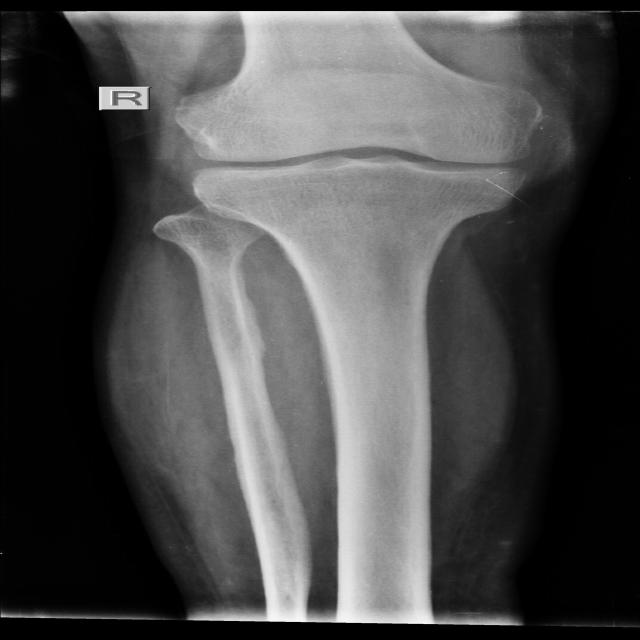normal: (165, 88, 560, 207)
